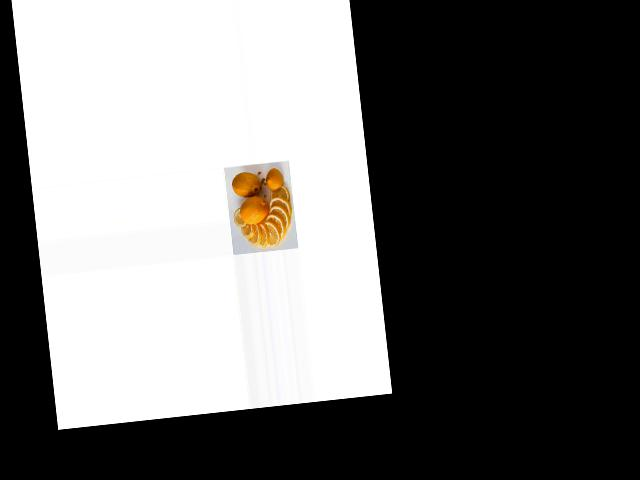lemon: (262, 168, 283, 190)
